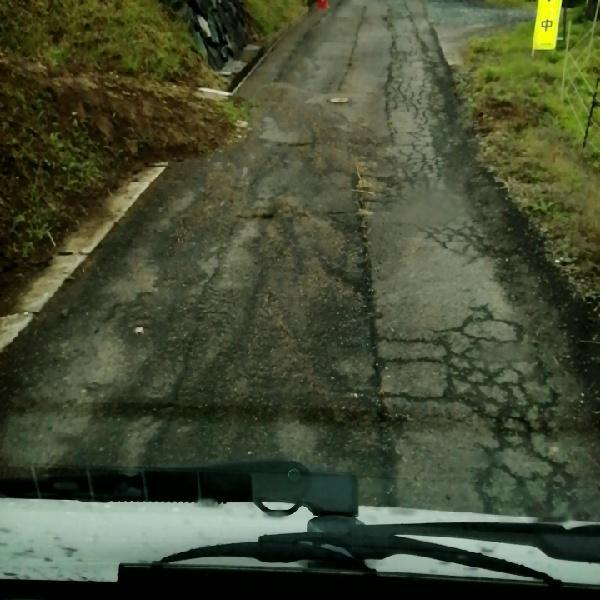D20: (350, 34, 599, 469)
